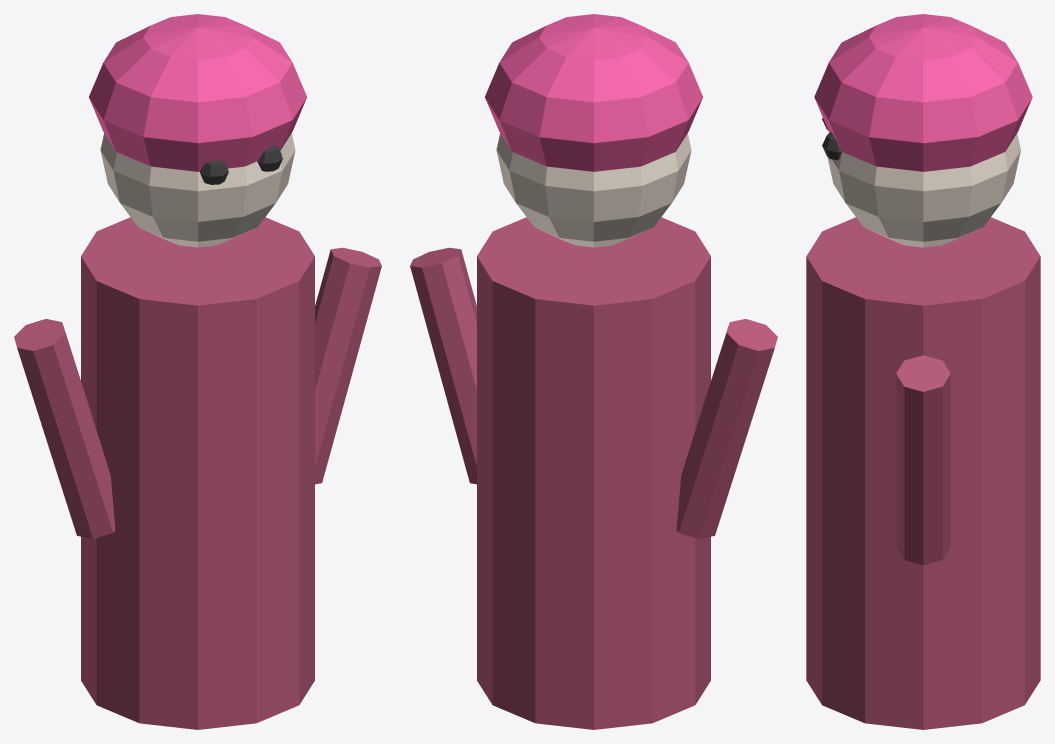
File: hero_vivaldi.glb
3 renders of one model, left to right at view 1: azimuth 30°, elevation 25°; view 2: azimuth 150°, elevation 25°; view 3: azimuth 270°, elevation 25°, orthographic.
Parts seen in each view (by area): view 1: hero_vivaldi_Body, hero_vivaldi_Wig, hero_vivaldi_Head, hero_vivaldi_Arm, hero_vivaldi_Arm.001; view 2: hero_vivaldi_Body, hero_vivaldi_Wig, hero_vivaldi_Head, hero_vivaldi_Arm, hero_vivaldi_Arm.001; view 3: hero_vivaldi_Body, hero_vivaldi_Wig, hero_vivaldi_Head, hero_vivaldi_Arm.001.
Boxes of the visible parts, left/top/right/bottom form: hero_vivaldi_Body: left=81, top=217, right=314, bottom=729; hero_vivaldi_Wig: left=89, top=14, right=306, bottom=171; hero_vivaldi_Head: left=100, top=133, right=295, bottom=247; hero_vivaldi_Arm: left=14, top=319, right=115, bottom=538; hero_vivaldi_Arm.001: left=315, top=247, right=381, bottom=484; hero_vivaldi_Body: left=477, top=217, right=710, bottom=729; hero_vivaldi_Wig: left=485, top=14, right=702, bottom=171; hero_vivaldi_Head: left=496, top=133, right=691, bottom=247; hero_vivaldi_Arm: left=676, top=319, right=777, bottom=538; hero_vivaldi_Arm.001: left=410, top=247, right=476, bottom=484; hero_vivaldi_Body: left=806, top=217, right=1040, bottom=729; hero_vivaldi_Wig: left=814, top=14, right=1032, bottom=171; hero_vivaldi_Head: left=827, top=133, right=1020, bottom=247; hero_vivaldi_Arm.001: left=896, top=355, right=950, bottom=565.
Size of the model in its own units: 1.07 by 1.85 by 0.6.
